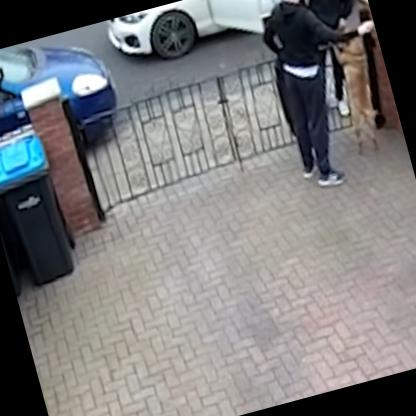Human Body: (240, 0, 413, 201)
